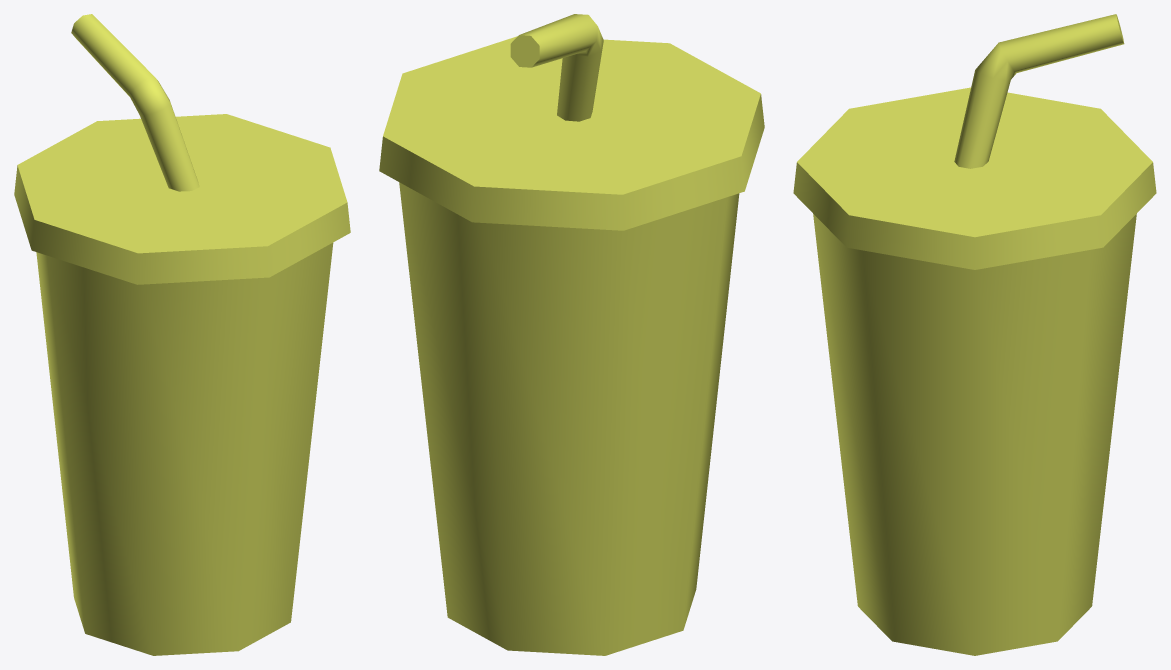
The model's file is li_cup02.fbx.
3 views of the same model, side by side, from view 1: azimuth 30°, elevation 25°; view 2: azimuth 150°, elevation 25°; view 3: azimuth 270°, elevation 25° (orthographic). The views are drawn at different scales.
Parts seen in each view (by area): view 1: li_cup02; view 2: li_cup02; view 3: li_cup02.
Boxes of the visible parts, x1=… form: li_cup02: x1=14, y1=14, x2=350, y2=655; li_cup02: x1=379, y1=14, x2=764, y2=655; li_cup02: x1=793, y1=14, x2=1156, y2=655.
Bounding box in the file's own units: 12.08 × 21.15 × 12.08.
